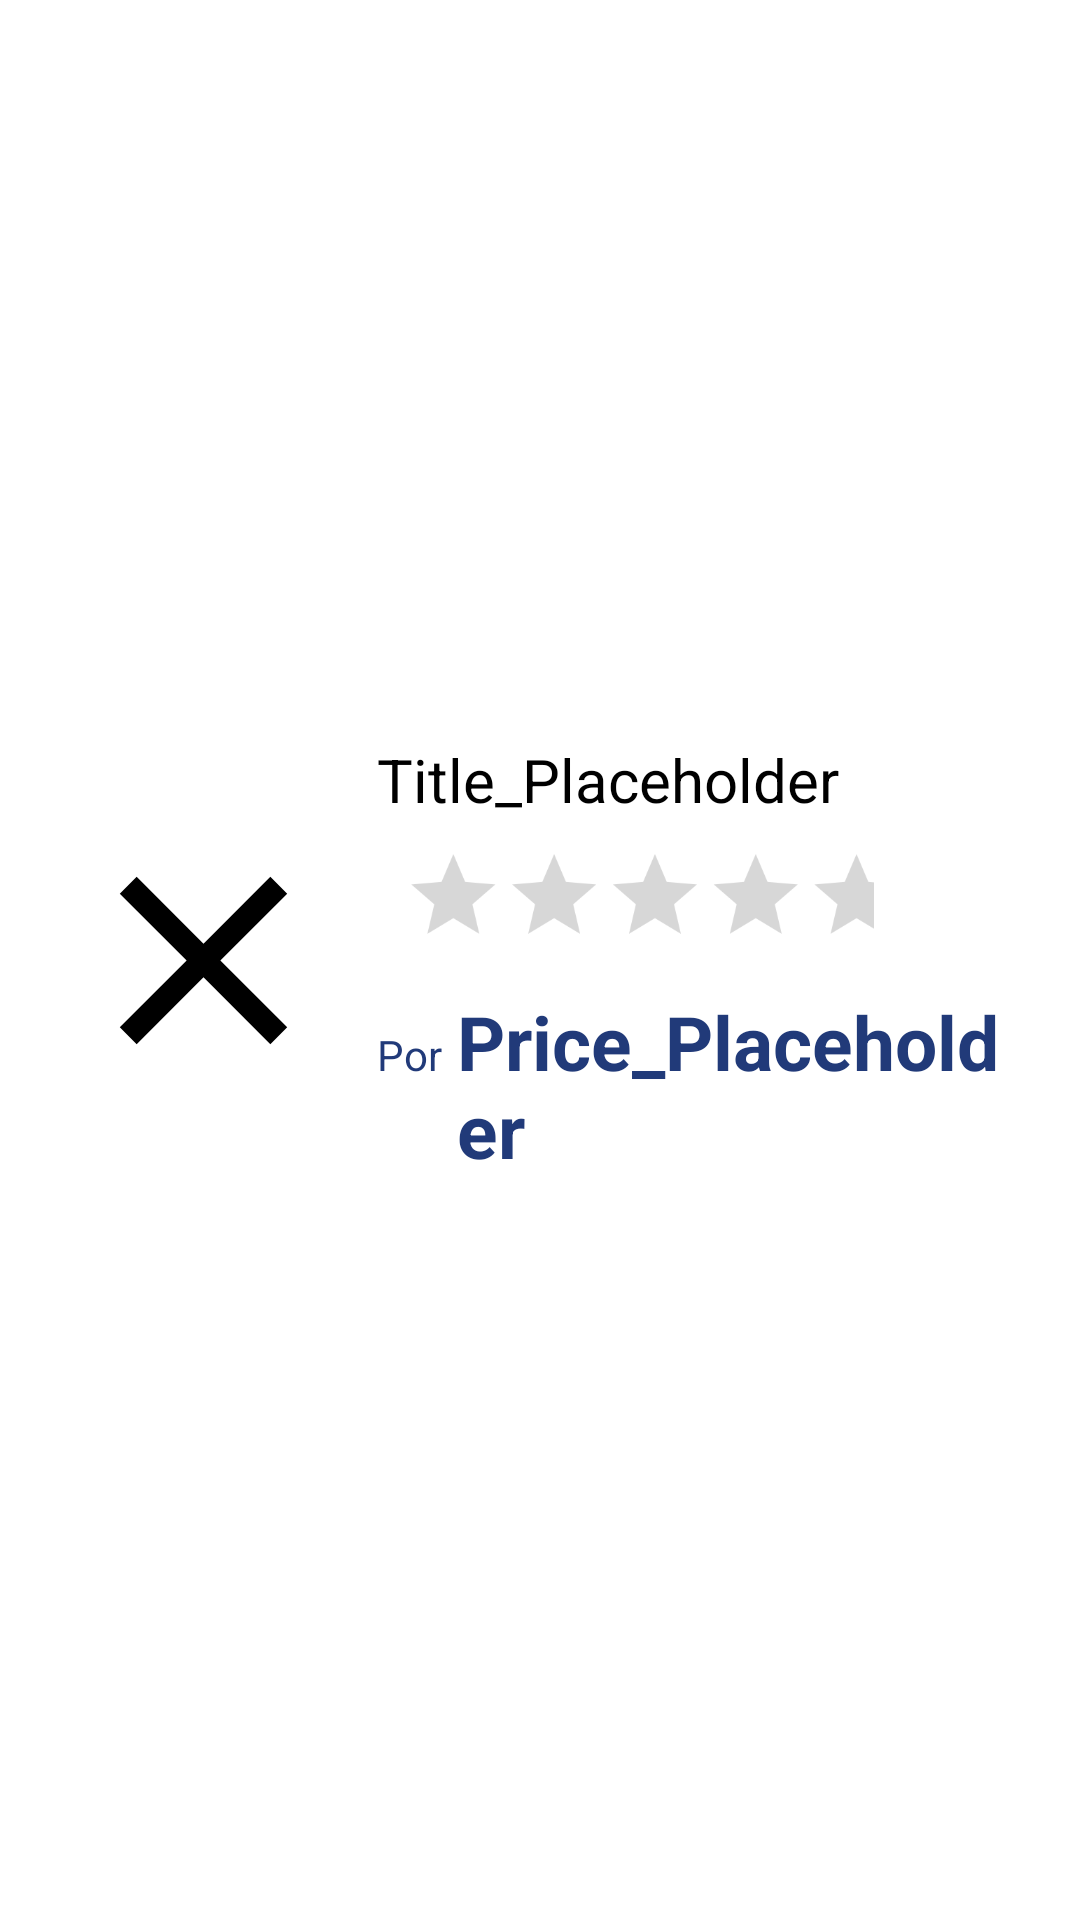

Icon click points for this 1080w x 1920h phone screenshot, format (x=x, y=y):
clear: (x=203, y=960)
